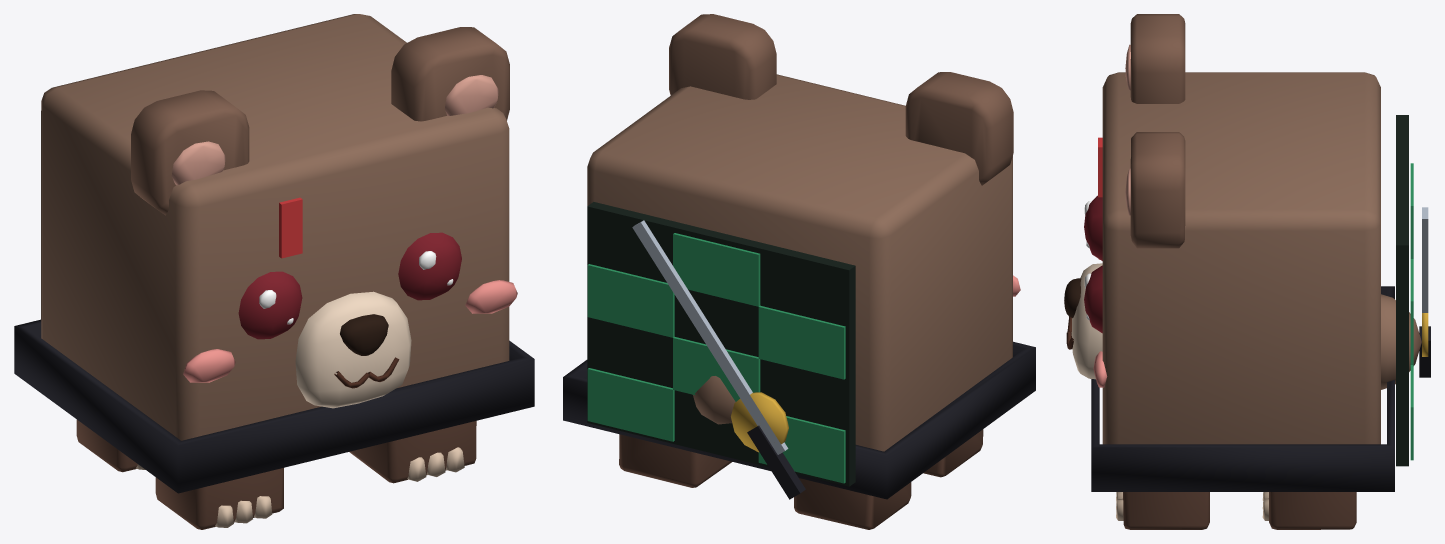
The model's file is Anime_Jaeger.fbx.
3 views of the same model, side by side, from view 1: azimuth 30°, elevation 25°; view 2: azimuth 150°, elevation 25°; view 3: azimuth 270°, elevation 25° (orthographic). The views are drawn at different scales.
Visible parts, largest first — view 1: Anime_Jaeger_body, Anime_Jaeger_acc_belt, Anime_Jaeger_ears, Anime_Jaeger_muzzle, Anime_Jaeger_feet, Anime_Jaeger_eyes, Anime_Jaeger, Anime_Jaeger_toes, Anime_Jaeger_cute_innerear_-1, Anime_Jaeger_nose, Anime_Jaeger_acc_scar, Anime_Jaeger_cute_blush_-1; view 2: Anime_Jaeger_body, Anime_Jaeger_acc_cape, Anime_Jaeger_acc_checks, Anime_Jaeger_ears, Anime_Jaeger_acc_belt, Anime_Jaeger_feet, Anime_Jaeger_acc_blade, Anime_Jaeger_acc_guard, Anime_Jaeger_acc_hilt, Anime_Jaeger_cute_tail; view 3: Anime_Jaeger_body, Anime_Jaeger_acc_belt, Anime_Jaeger_ears, Anime_Jaeger_feet, Anime_Jaeger_acc_cape, Anime_Jaeger_eyes, Anime_Jaeger_muzzle, Anime_Jaeger_cute_tail, Anime_Jaeger_acc_checks, Anime_Jaeger_acc_blade, Anime_Jaeger, Anime_Jaeger_nose.
Part boxes in pixels (x1,y1,x2,y2): Anime_Jaeger_body: (41, 14, 509, 440); Anime_Jaeger_acc_belt: (14, 319, 534, 493); Anime_Jaeger_ears: (131, 27, 509, 215); Anime_Jaeger_muzzle: (295, 291, 411, 408); Anime_Jaeger_feet: (76, 419, 476, 529); Anime_Jaeger_eyes: (238, 232, 461, 339); Anime_Jaeger: (419, 75, 517, 313); Anime_Jaeger_toes: (136, 447, 464, 527); Anime_Jaeger_cute_innerear_-1: (171, 141, 225, 185); Anime_Jaeger_nose: (340, 314, 388, 355); Anime_Jaeger_acc_scar: (279, 197, 302, 258); Anime_Jaeger_cute_blush_-1: (183, 349, 235, 382); Anime_Jaeger_body: (587, 74, 1012, 451); Anime_Jaeger_acc_cape: (587, 202, 855, 486); Anime_Jaeger_acc_checks: (587, 233, 845, 483); Anime_Jaeger_ears: (669, 14, 1013, 185); Anime_Jaeger_acc_belt: (563, 341, 1035, 499); Anime_Jaeger_feet: (619, 429, 983, 529); Anime_Jaeger_acc_blade: (632, 220, 788, 454); Anime_Jaeger_acc_guard: (731, 392, 788, 452); Anime_Jaeger_acc_hilt: (747, 425, 805, 499); Anime_Jaeger_cute_tail: (693, 376, 735, 424); Anime_Jaeger_body: (1102, 72, 1380, 444); Anime_Jaeger_acc_belt: (1091, 286, 1394, 491); Anime_Jaeger_ears: (1130, 14, 1185, 248); Anime_Jaeger_feet: (1123, 492, 1356, 529); Anime_Jaeger_acc_cape: (1396, 115, 1408, 466); Anime_Jaeger_eyes: (1084, 195, 1102, 333); Anime_Jaeger_muzzle: (1071, 263, 1102, 379); Anime_Jaeger_cute_tail: (1381, 294, 1421, 389); Anime_Jaeger_acc_checks: (1410, 163, 1413, 460); Anime_Jaeger_acc_blade: (1422, 207, 1428, 312); Anime_Jaeger: (1084, 168, 1130, 387); Anime_Jaeger_nose: (1064, 278, 1081, 318).
Bounding box in the file's own units: 235 × 261 × 226.
